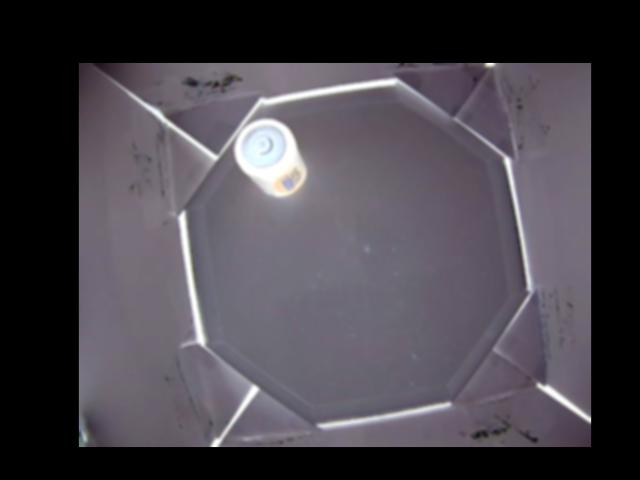Battery: (232, 118, 306, 196)
